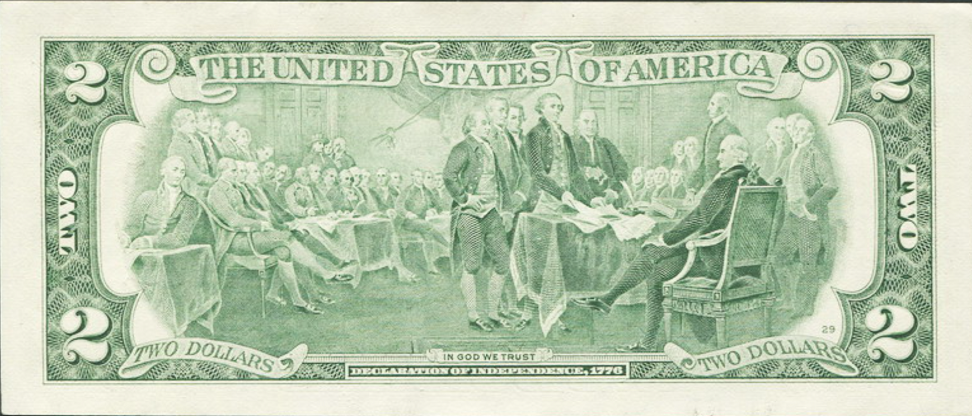2dollar: (1, 5, 972, 413)
